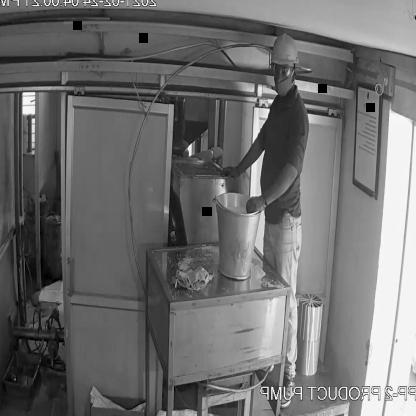helmet: (268, 23, 301, 73)
